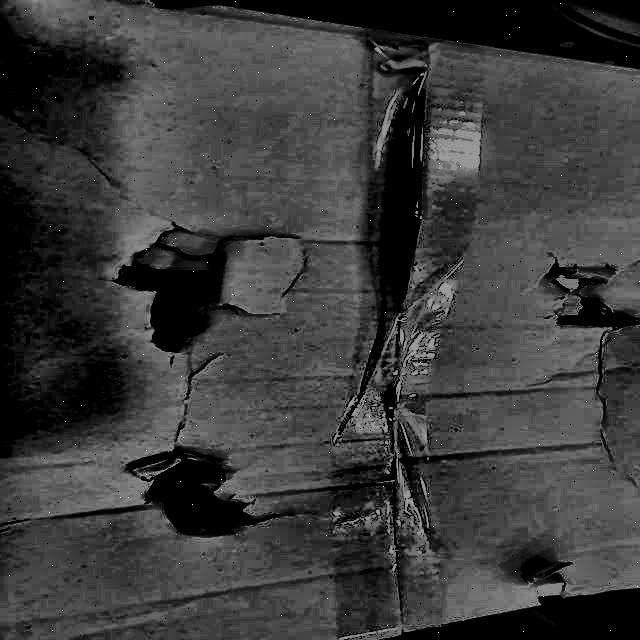box: (0, 0, 639, 639)
hole: (125, 450, 271, 544), (107, 254, 251, 344), (534, 264, 639, 329)
